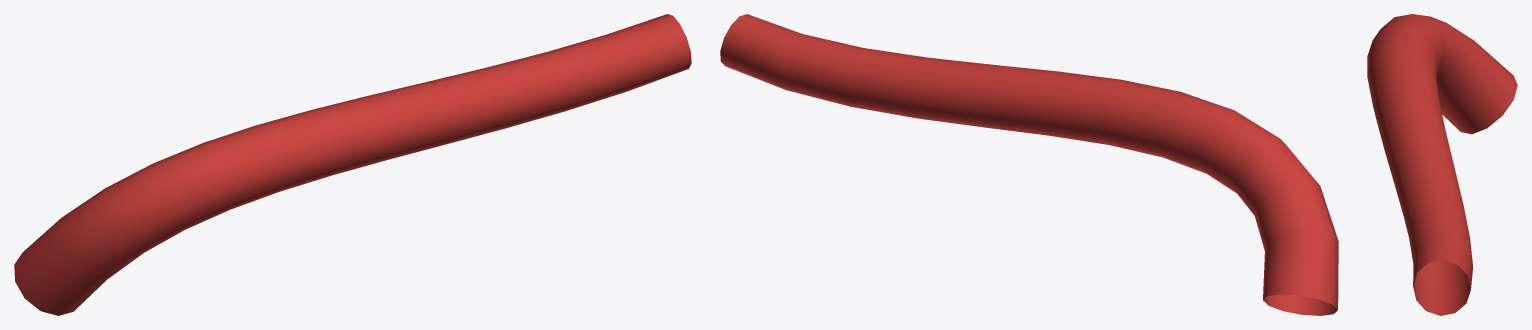
3 renders of one model, left to right at view 1: azimuth 30°, elevation 25°; view 2: azimuth 150°, elevation 25°; view 3: azimuth 270°, elevation 25°, orthographic. The views are drawn at different scales.
Parts seen in each view (by area): view 1: 右侧髂腰动脉脊支; view 2: 右侧髂腰动脉脊支; view 3: 右侧髂腰动脉脊支.
Part boxes in pixels (<box>): 右侧髂腰动脉脊支: <box>14,14,691,315</box>; 右侧髂腰动脉脊支: <box>720,14,1338,315</box>; 右侧髂腰动脉脊支: <box>1367,14,1517,315</box>.
Bounding box in the file's own units: 0.0335 × 0.00827 × 0.00687.
